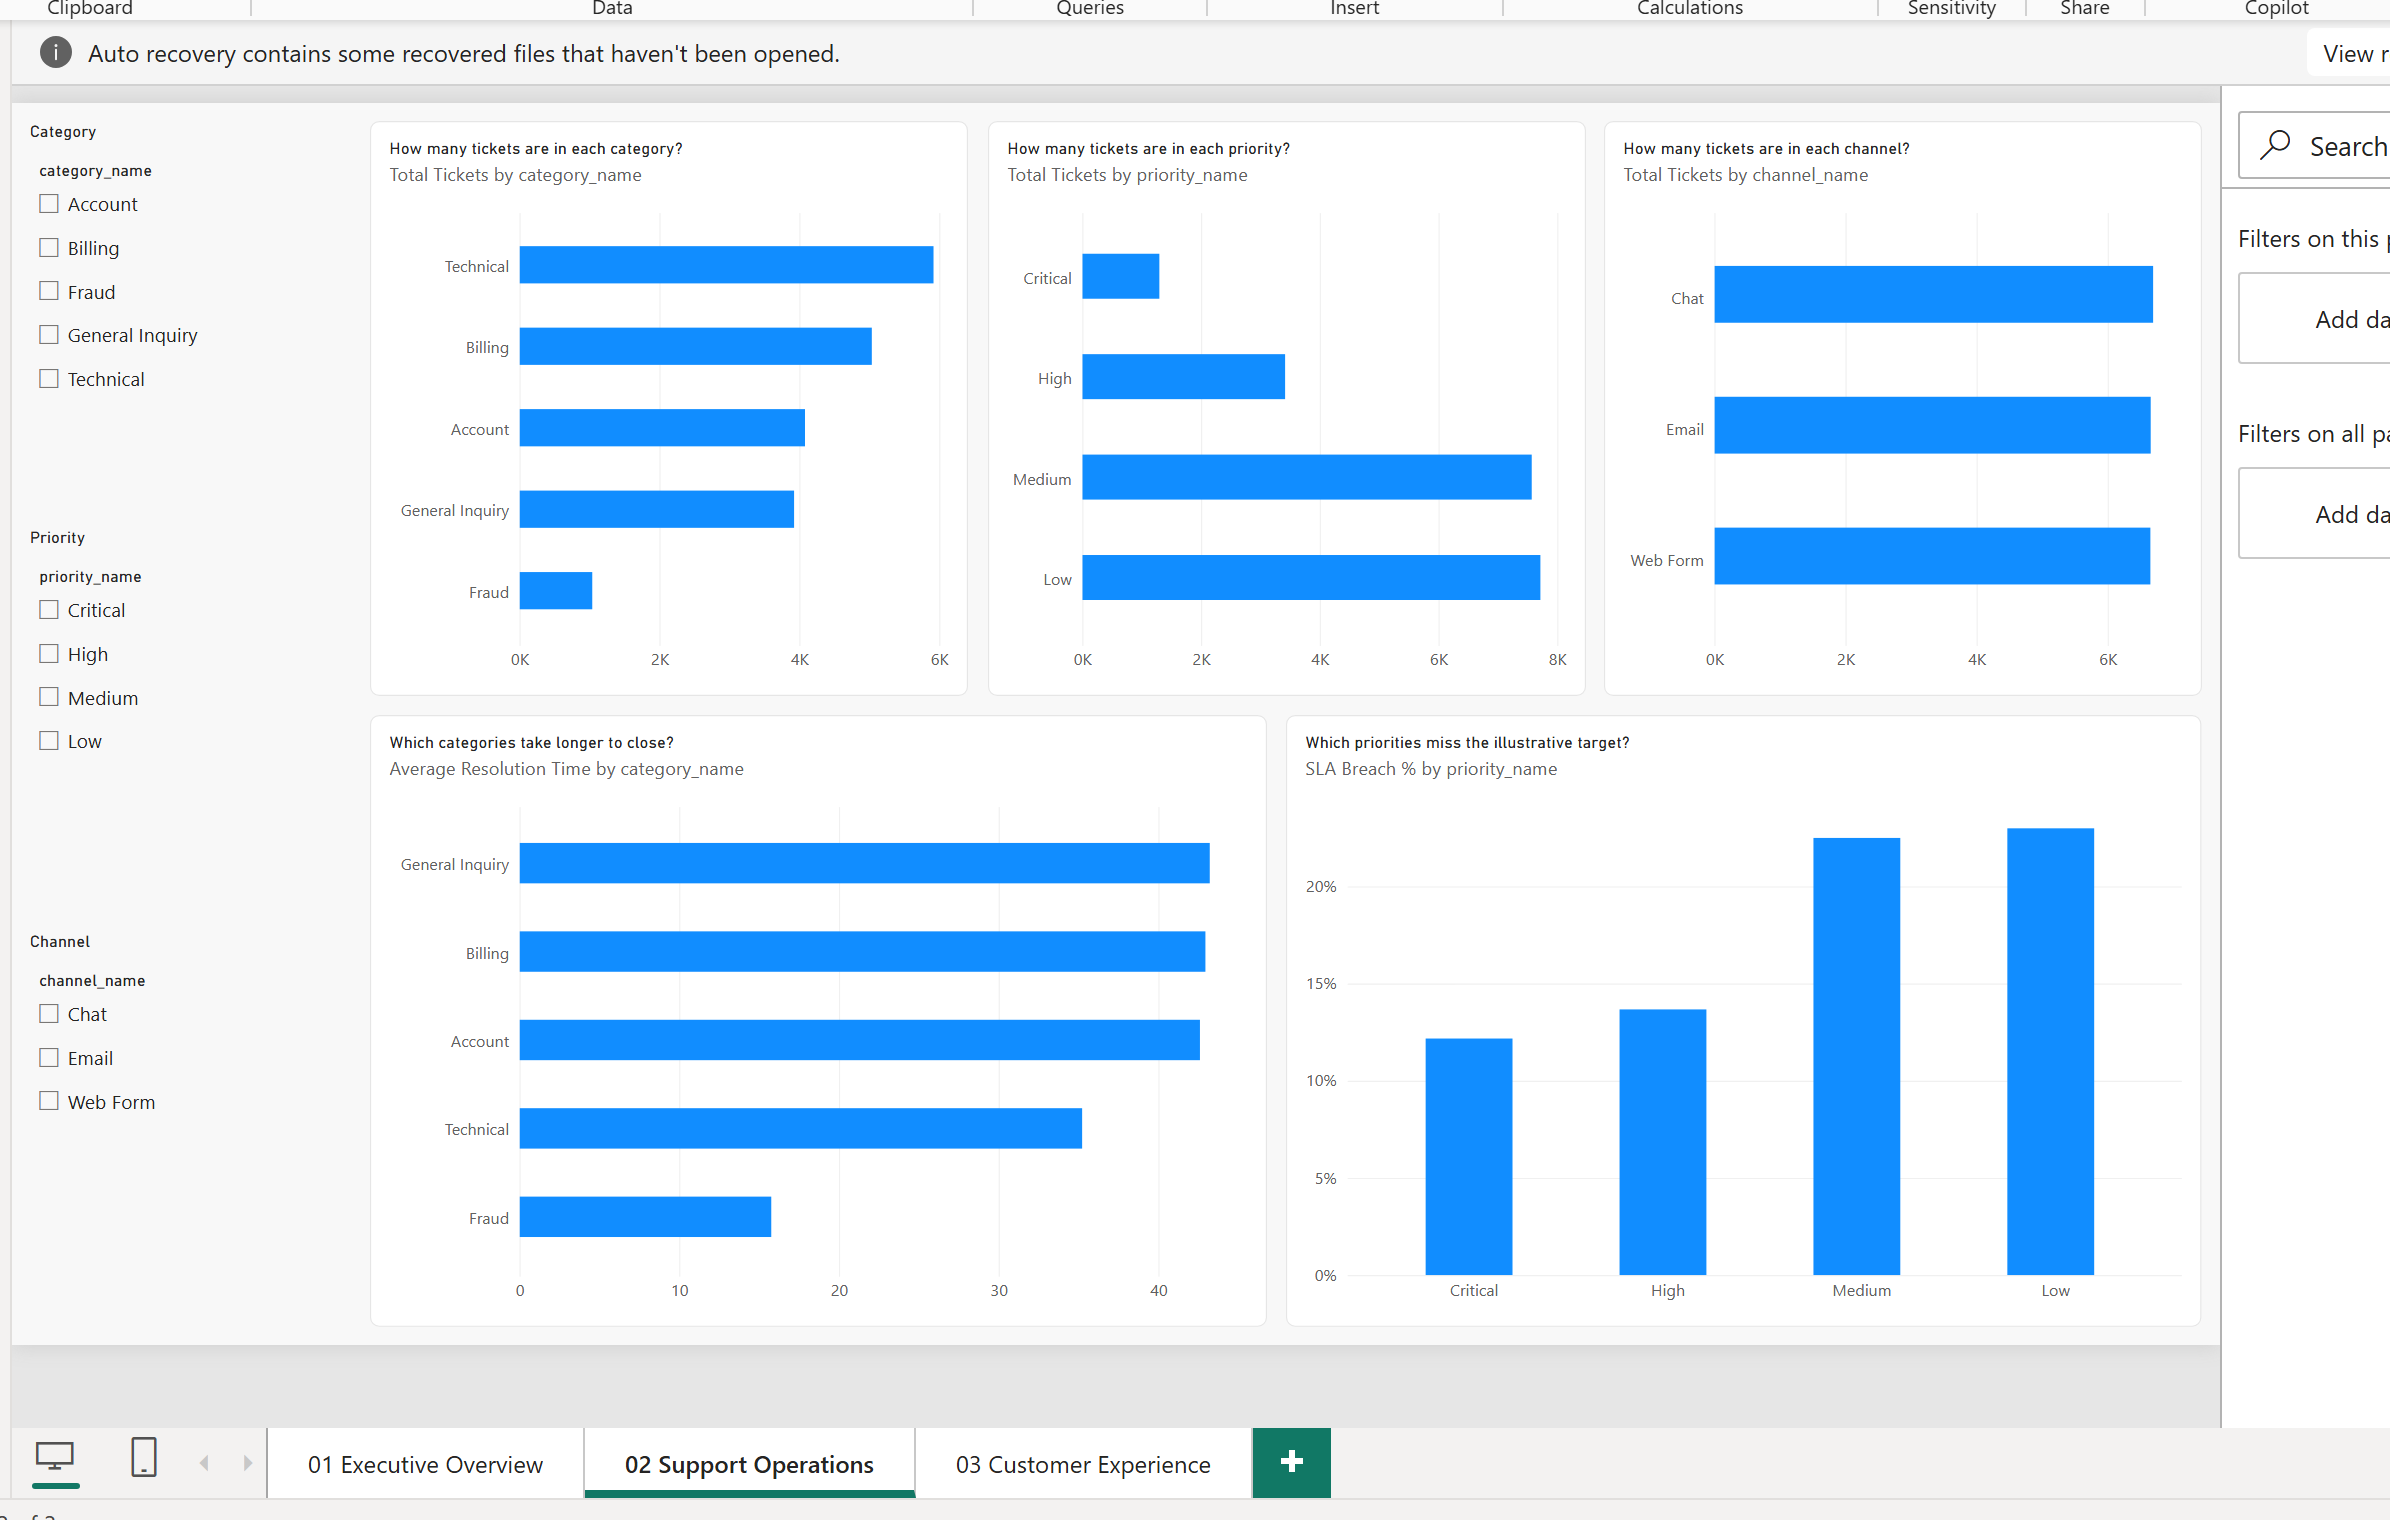

What the dashboard file says about the page in this screenshot:
{"tool":"powerbi","page":{"name":"02 Support Operations","canvas":[1920,1080],"ordinal":1},"visuals":[{"type":"slicer","title":"Category","fields":{"Values":["dim_category.category_name"]},"box":[16,16,280,340],"z":0},{"type":"slicer","title":"Priority","fields":{"Values":["dim_priority.priority_name"]},"box":[16,368,280,340],"z":1},{"type":"slicer","title":"Channel","fields":{"Values":["dim_channel.channel_name"]},"box":[16,720,280,344],"z":2},{"type":"clusteredBarChart","title":"How many tickets are in each category?","fields":{"Category":["dim_category.category_name"],"Y":["fact_tickets.Total Tickets"]},"box":[312,16,520,500],"z":3},{"type":"clusteredBarChart","title":"How many tickets are in each priority?","fields":{"Category":["dim_priority.priority_name"],"Y":["fact_tickets.Total Tickets"]},"box":[848,16,520,500],"z":4},{"type":"clusteredBarChart","title":"How many tickets are in each channel?","fields":{"Category":["dim_channel.channel_name"],"Y":["fact_tickets.Total Tickets"]},"box":[1384,16,520,500],"z":5},{"type":"clusteredBarChart","title":"Which categories take longer to close?","fields":{"Category":["dim_category.category_name"],"Y":["fact_tickets.Average Resolution Time"]},"box":[312,532,780,532],"z":6},{"type":"clusteredColumnChart","title":"Which priorities miss the illustrative target?","fields":{"Category":["dim_priority.priority_name"],"Y":["fact_tickets.SLA Breach %"]},"box":[1108,532,796,532],"z":7}]}

Visuals, with their boxes on the page's 1920x1080 design canvas (x1, y1, x2, y2). These are canvas units, not pixel positions in the 2390x1520 screenshot, which may show the page scaled, cropped or inside an application window:
"Category" slicer: <region>16, 16, 296, 356</region>
"Priority" slicer: <region>16, 368, 296, 708</region>
"Channel" slicer: <region>16, 720, 296, 1064</region>
"How many tickets are in each category?" clusteredBarChart: <region>312, 16, 832, 516</region>
"How many tickets are in each priority?" clusteredBarChart: <region>848, 16, 1368, 516</region>
"How many tickets are in each channel?" clusteredBarChart: <region>1384, 16, 1904, 516</region>
"Which categories take longer to close?" clusteredBarChart: <region>312, 532, 1092, 1064</region>
"Which priorities miss the illustrative target?" clusteredColumnChart: <region>1108, 532, 1904, 1064</region>
